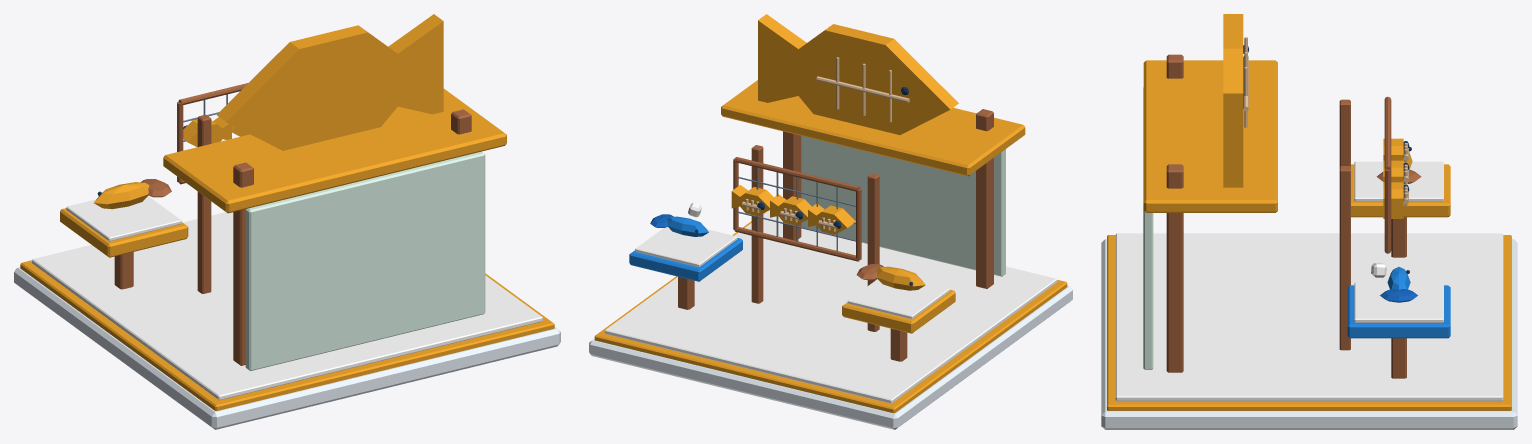
File: Building_Drying_2x2_v002.fbx
3 views of the same model, side by side, from view 1: azimuth 30°, elevation 25°; view 2: azimuth 150°, elevation 25°; view 3: azimuth 270°, elevation 25° (orthographic). The views are drawn at different scales.
Parts seen in each view (by area): view 1: FixedShell, OutputItemMesh, DryingMeshMesh, ProcessFinishedMesh; view 2: FixedShell, DryingMeshMesh, ProcessFinishedMesh, OutputItemMesh, InputItemMesh; view 3: FixedShell, ProcessFinishedMesh, DryingMeshMesh, InputItemMesh.
Part boxes in pixels (box(x1,y1,x2,y2)): FixedShell: box(14, 14, 560, 429); OutputItemMesh: box(94, 179, 171, 209); DryingMeshMesh: box(177, 83, 247, 184); ProcessFinishedMesh: box(183, 117, 249, 147); FixedShell: box(589, 14, 1072, 429); DryingMeshMesh: box(733, 157, 861, 261); ProcessFinishedMesh: box(731, 185, 855, 234); OutputItemMesh: box(856, 264, 925, 290); InputItemMesh: box(650, 202, 708, 236); FixedShell: box(1101, 14, 1517, 429); ProcessFinishedMesh: box(1383, 138, 1409, 218); DryingMeshMesh: box(1384, 96, 1391, 253); InputItemMesh: box(1371, 263, 1417, 302).
Size of the model in its own units: 186 by 155 by 186.
